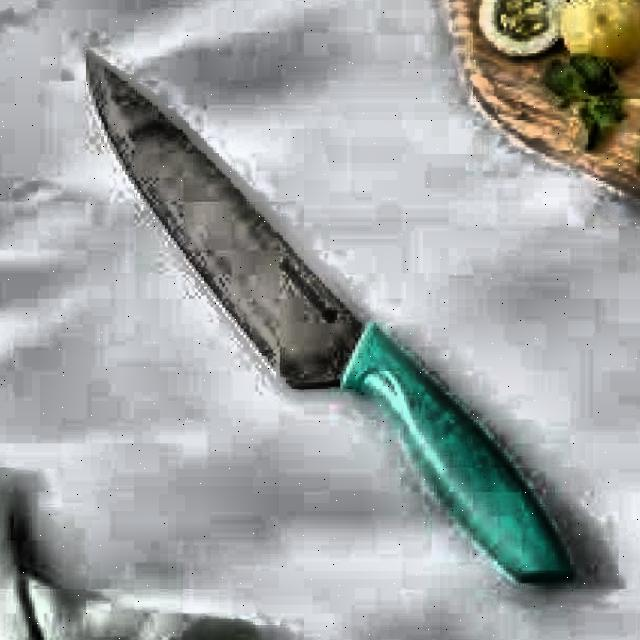knife: (79, 52, 587, 600)
